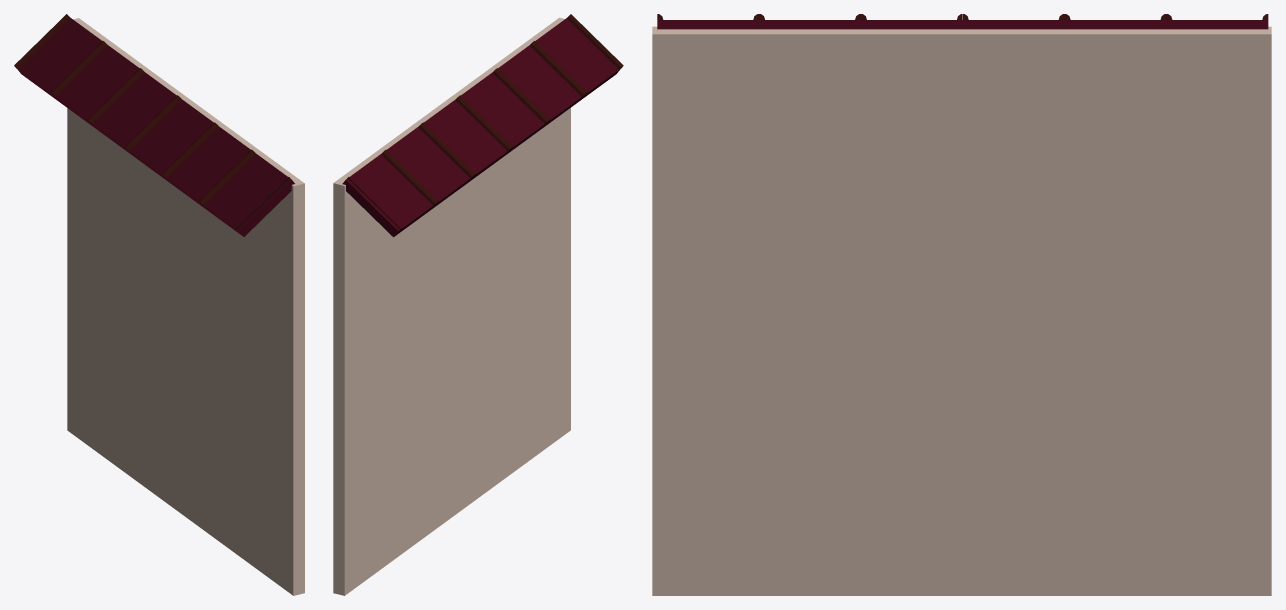
File: Wall.fbx
The picture shows the model from 3 angles, left to right: view 1: azimuth 30°, elevation 25°; view 2: azimuth 150°, elevation 25°; view 3: azimuth 270°, elevation 25°; orthographic projection. The views are drawn at different scales.
Parts seen in each view (by area): view 1: Wall; view 2: Wall; view 3: Wall.
Boxes of the visible parts, x1,y1,x2,y2 form: Wall: (14, 14, 304, 595); Wall: (333, 14, 623, 595); Wall: (652, 14, 1271, 595).
Bounding box in the file's own units: 94.93 × 572 × 561.
